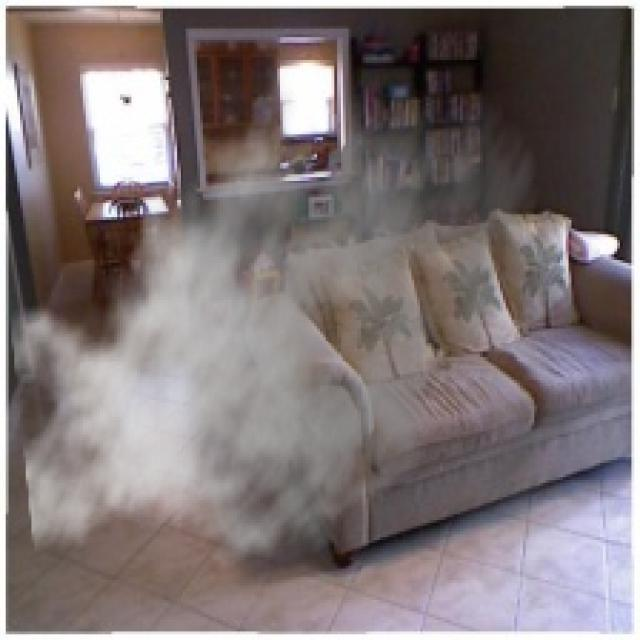Smoke: (8, 34, 543, 589)
